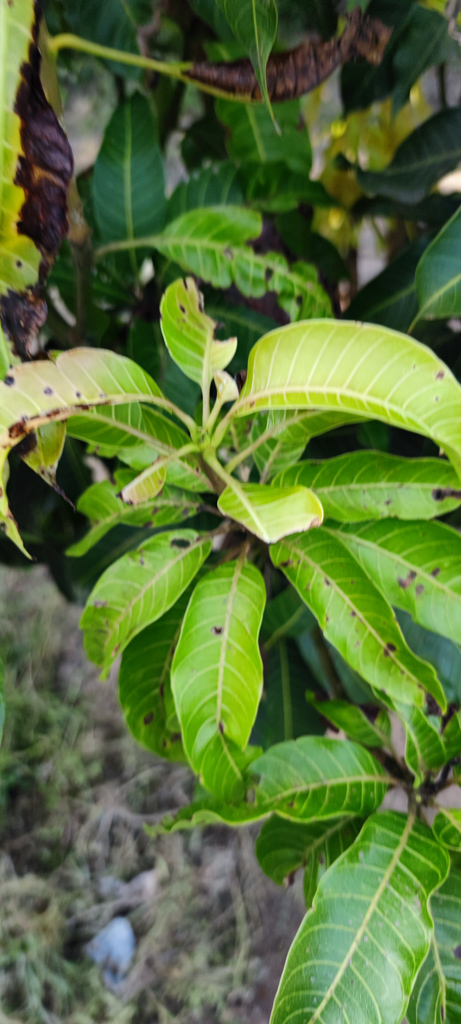Alternaria brassicicola: (276, 544, 444, 714)
